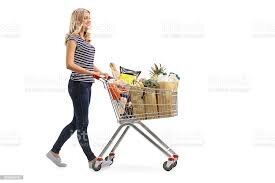with_basket: (94, 62, 182, 172)
without_mask: (71, 7, 92, 33)
